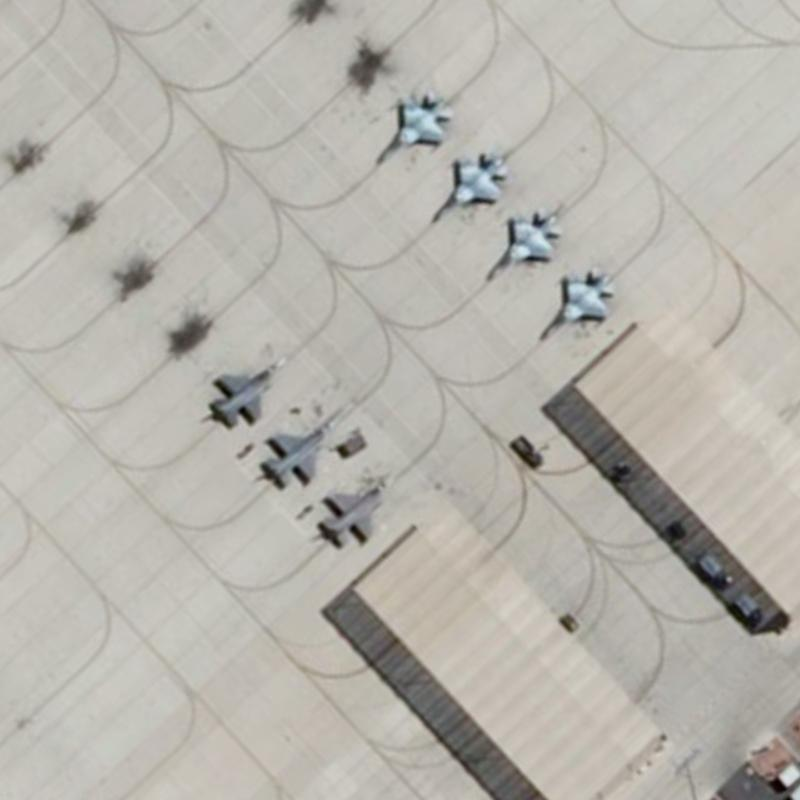A5: (368, 79, 457, 165), (198, 348, 286, 434), (258, 411, 342, 495), (308, 472, 395, 552), (534, 266, 620, 342), (479, 204, 566, 279), (431, 142, 509, 217)
